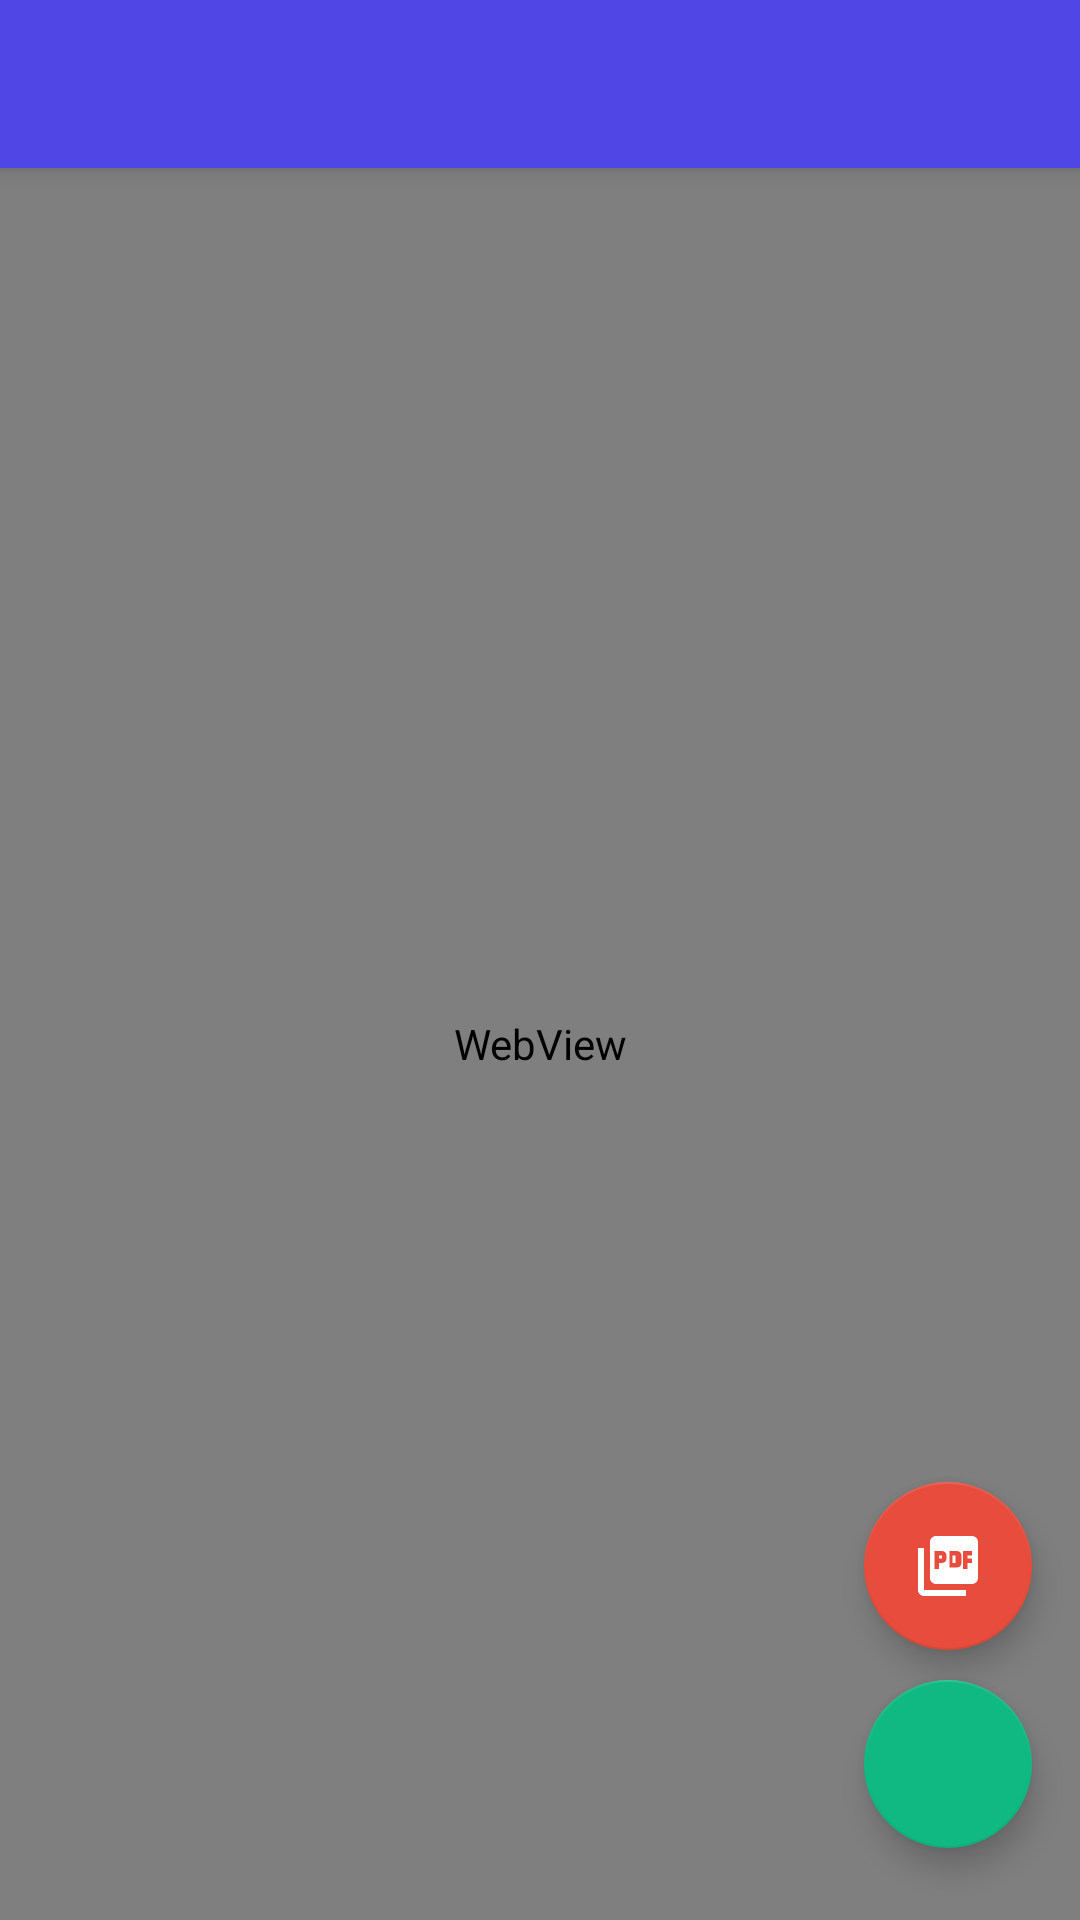

Named icons in this screenshot (1080 × 1920) and their bounding boxes, Rect(x1, y1, x2, y2):
PDF Import: Rect(864, 1482, 1032, 1650)
